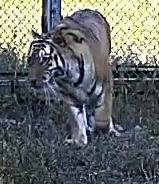tiger: (28, 9, 119, 143)
